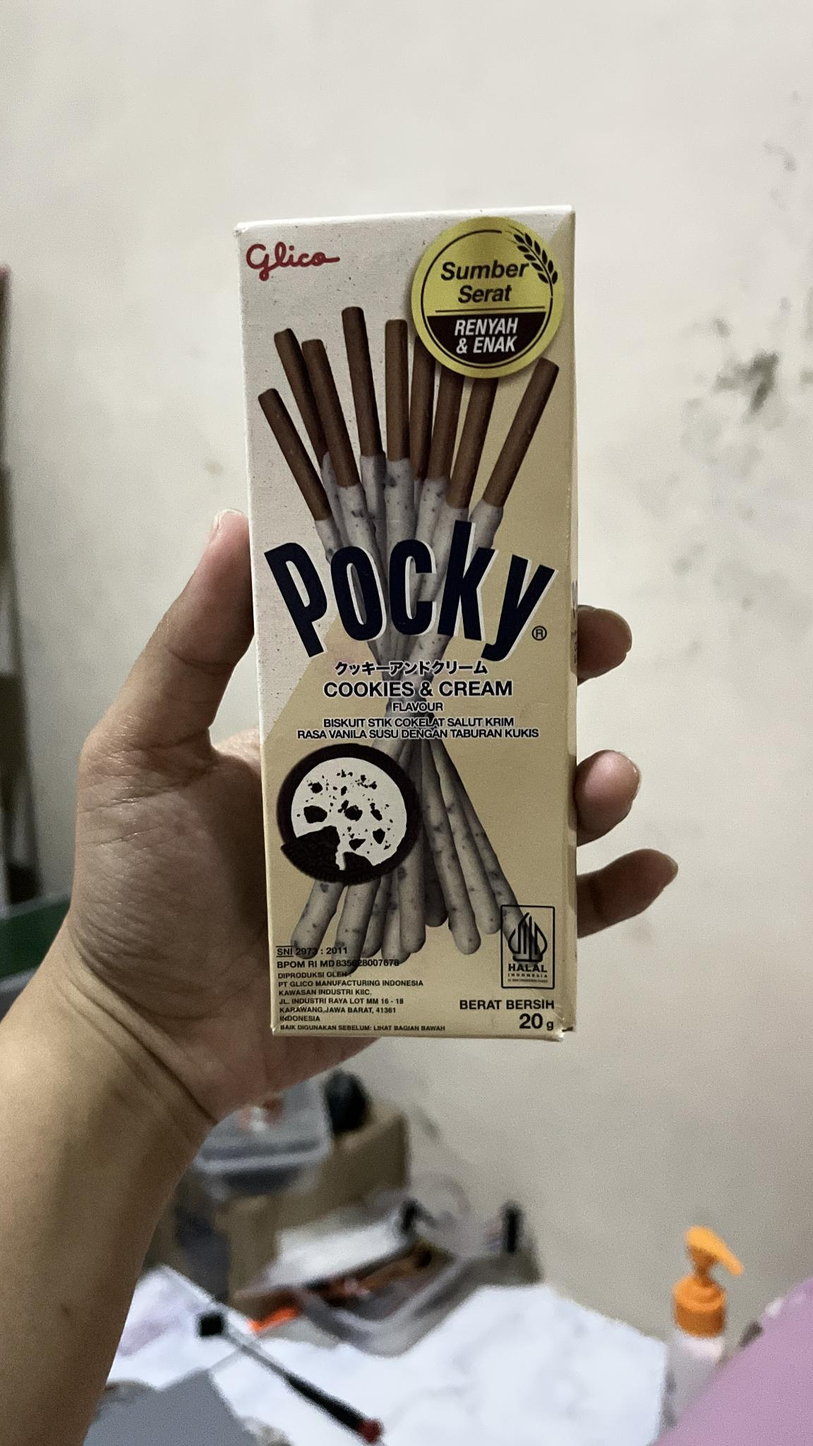Kertas: (247, 226, 574, 1044)
